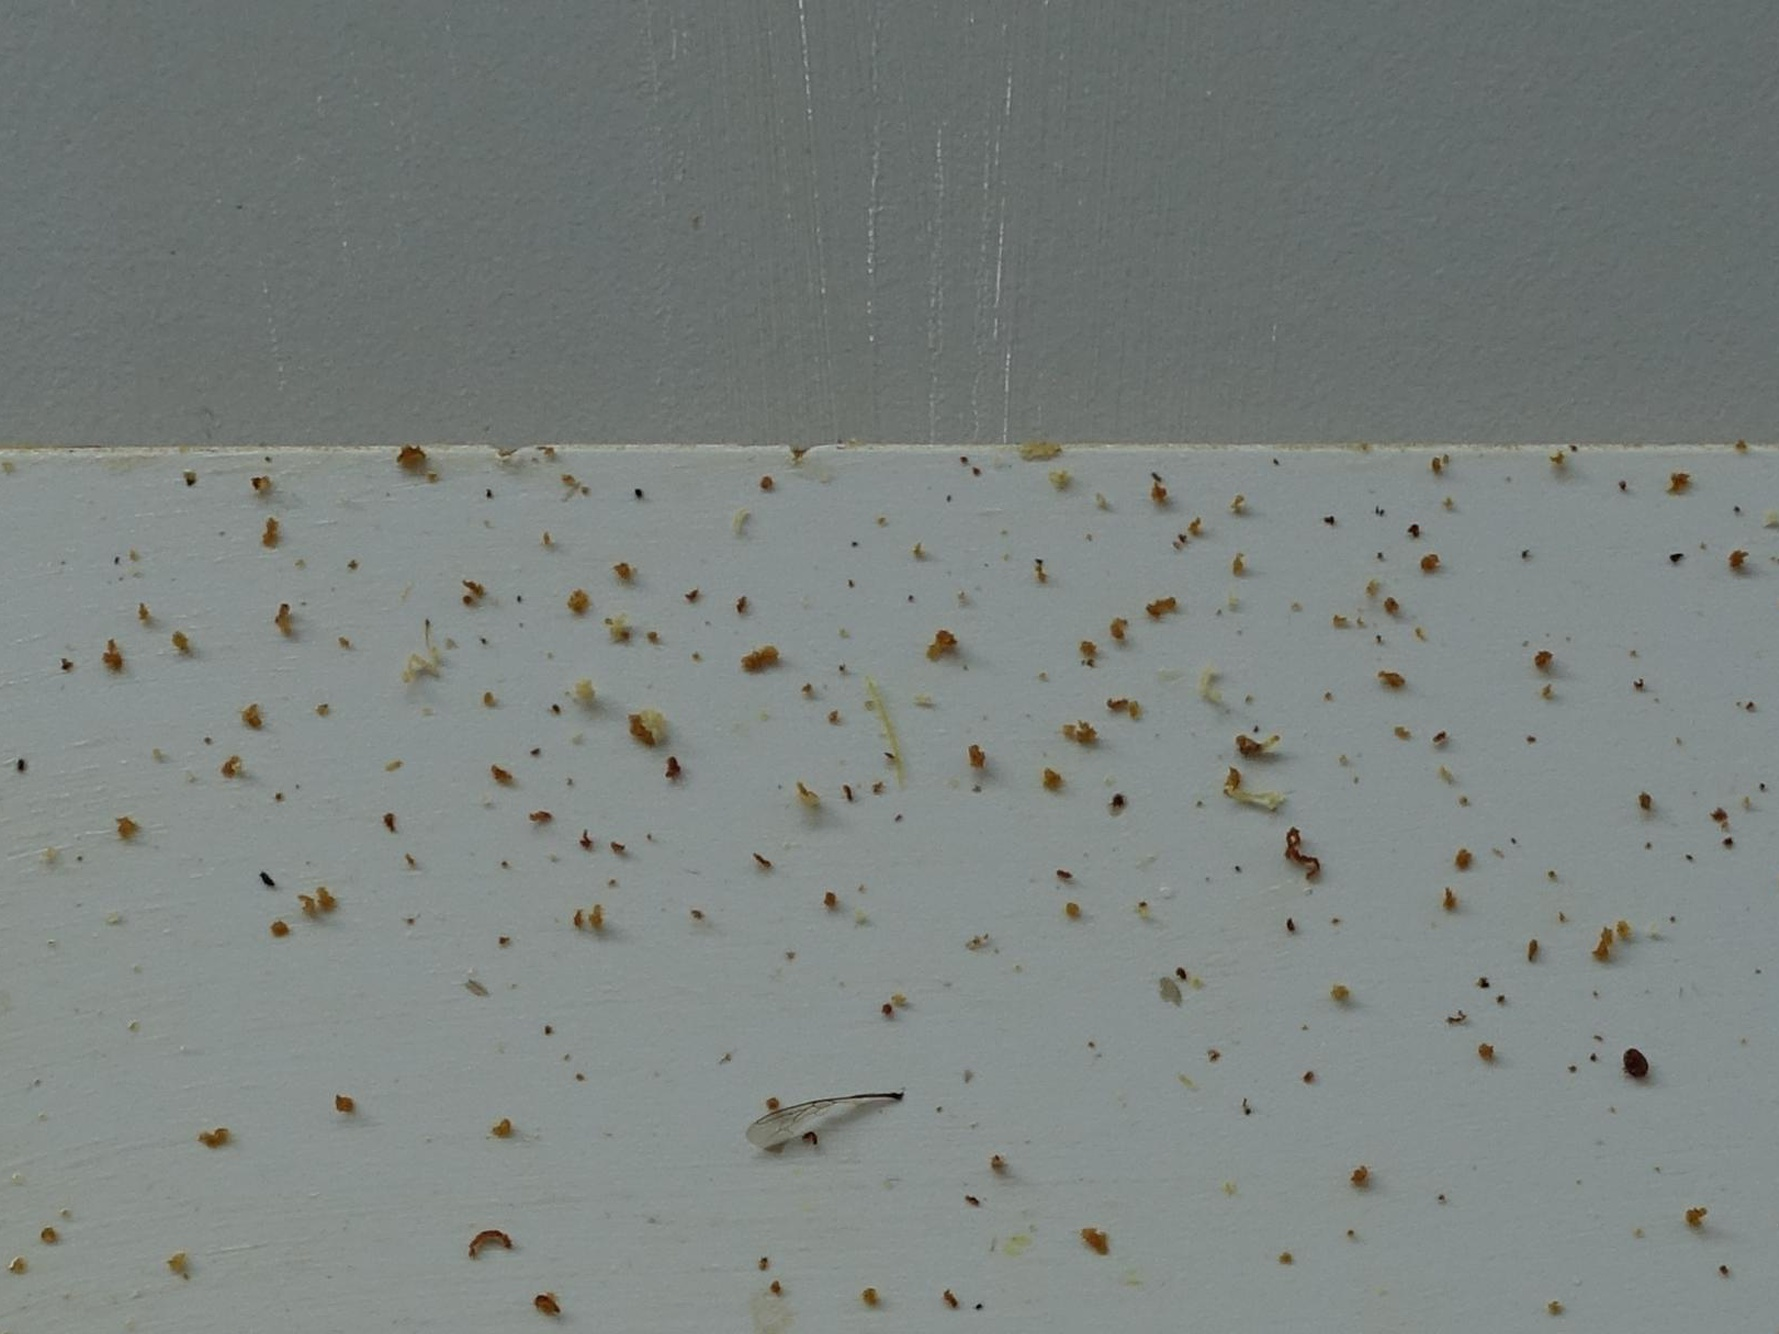Varroa: (1624, 1052, 1643, 1071)
